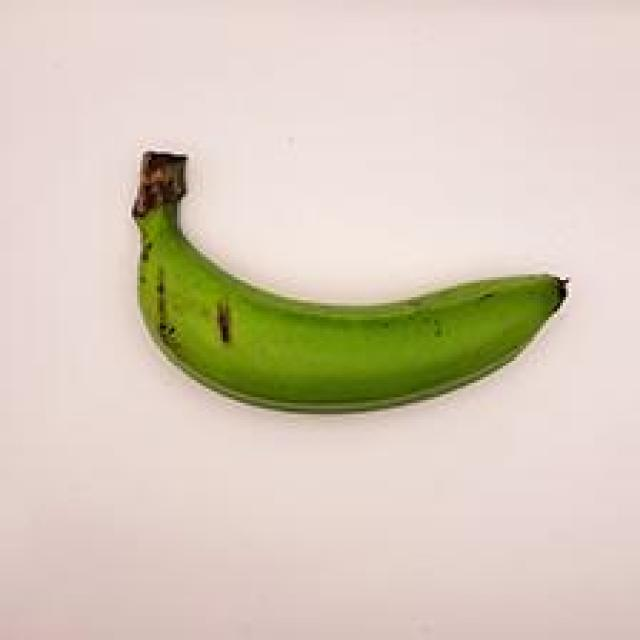Raw: (102, 117, 586, 426)
